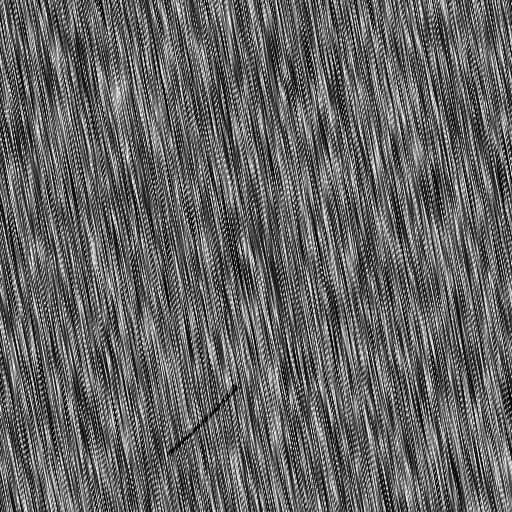DefectTypeC: (168, 386, 241, 454)
